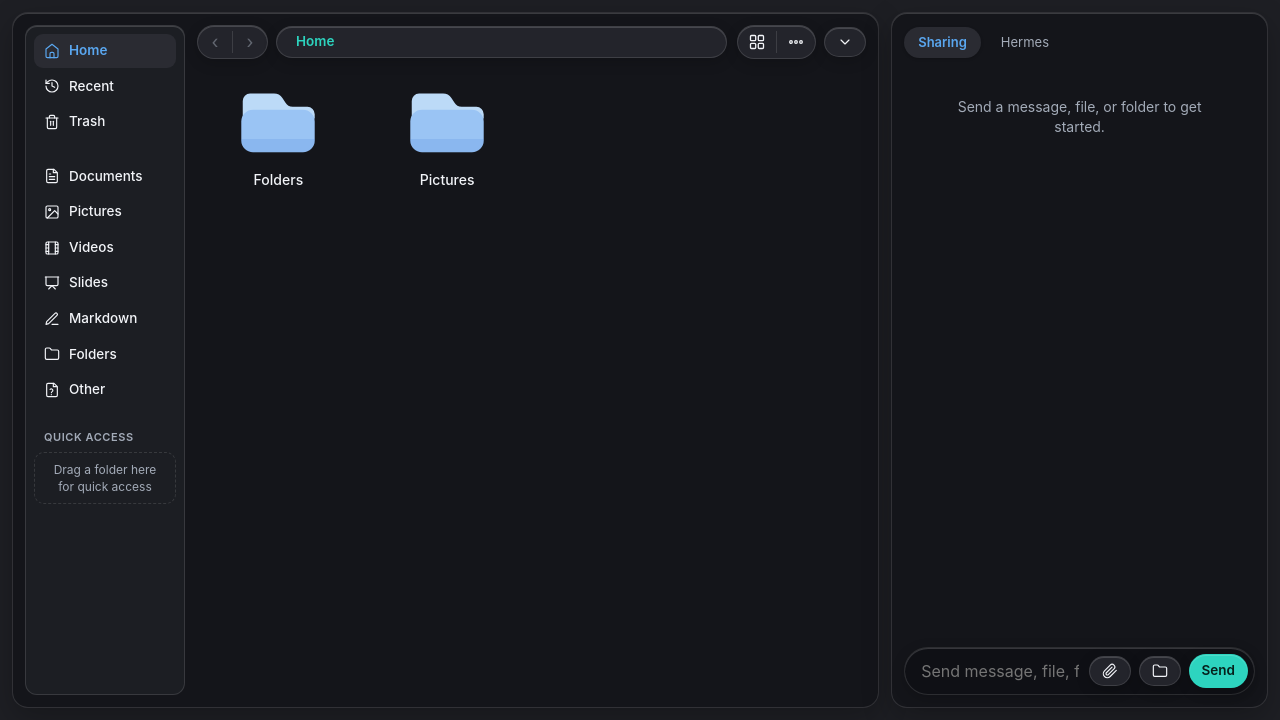
Test case: PrivyCloudTab file-system sharing › navigates back to the root via the back button
The image size is (1280, 720).
Double-click the 1st button titled "Open Pictures".
double_click(447, 149)  # box [366,67,529,231]
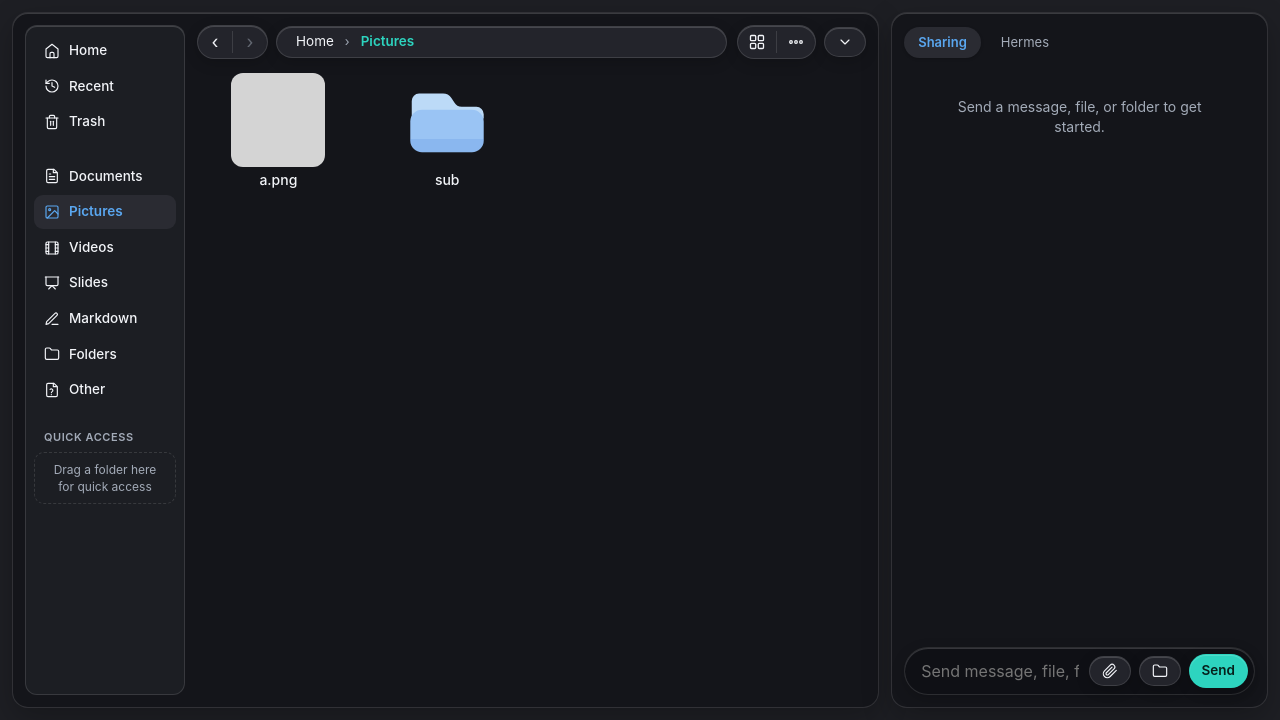
Click the button named "back".
click(215, 42)  # box [198,26,232,58]
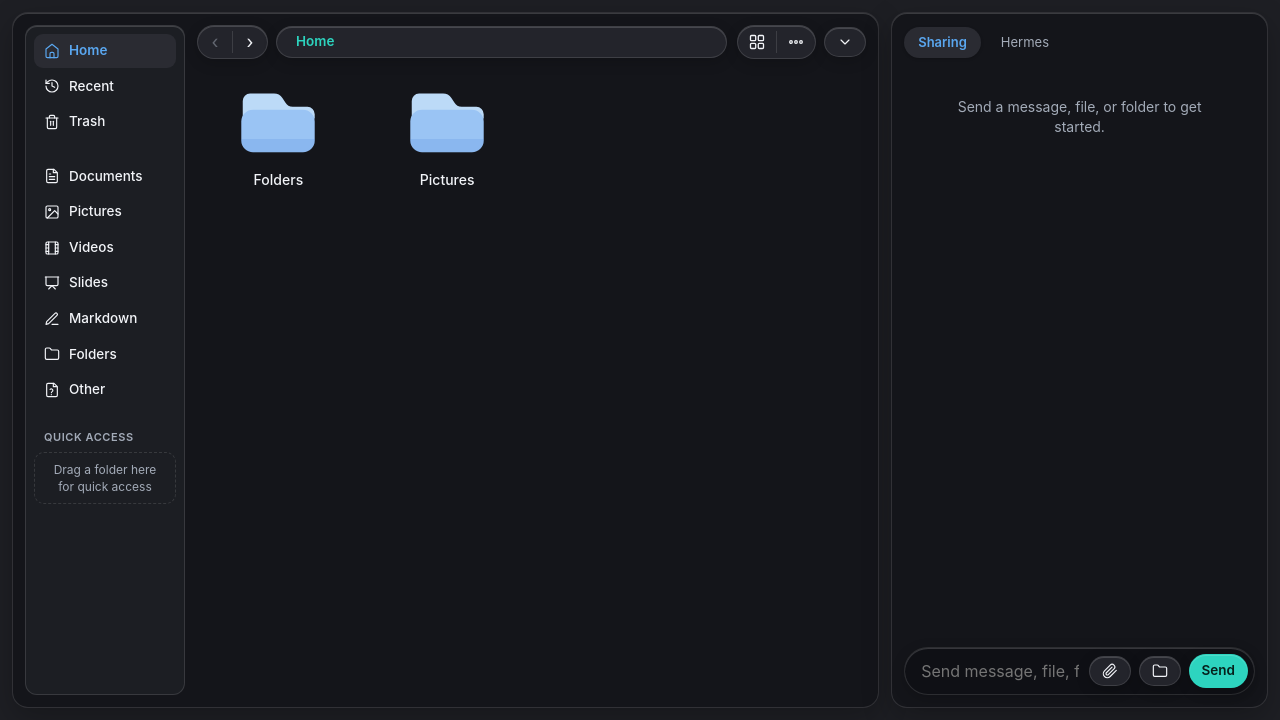
Check: the 1st button titled "Open Pictures" is shown, box [366,67,529,231]
Check: the button "a.png" is gone
